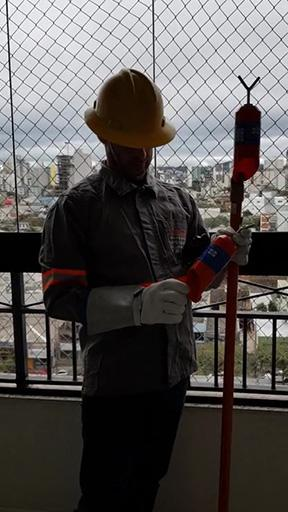Detector_Tensao_Contato: (186, 216, 253, 296), (233, 74, 262, 185)
Vara_Manobra: (219, 181, 245, 512)
